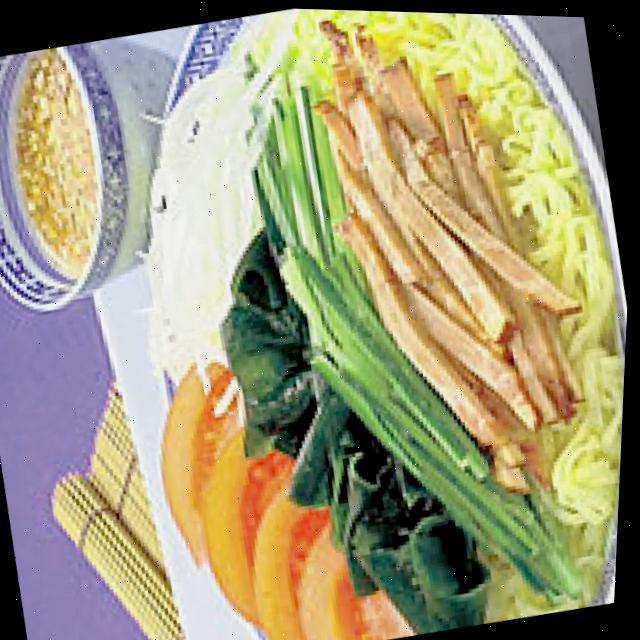面条主食: (244, 6, 640, 640)
